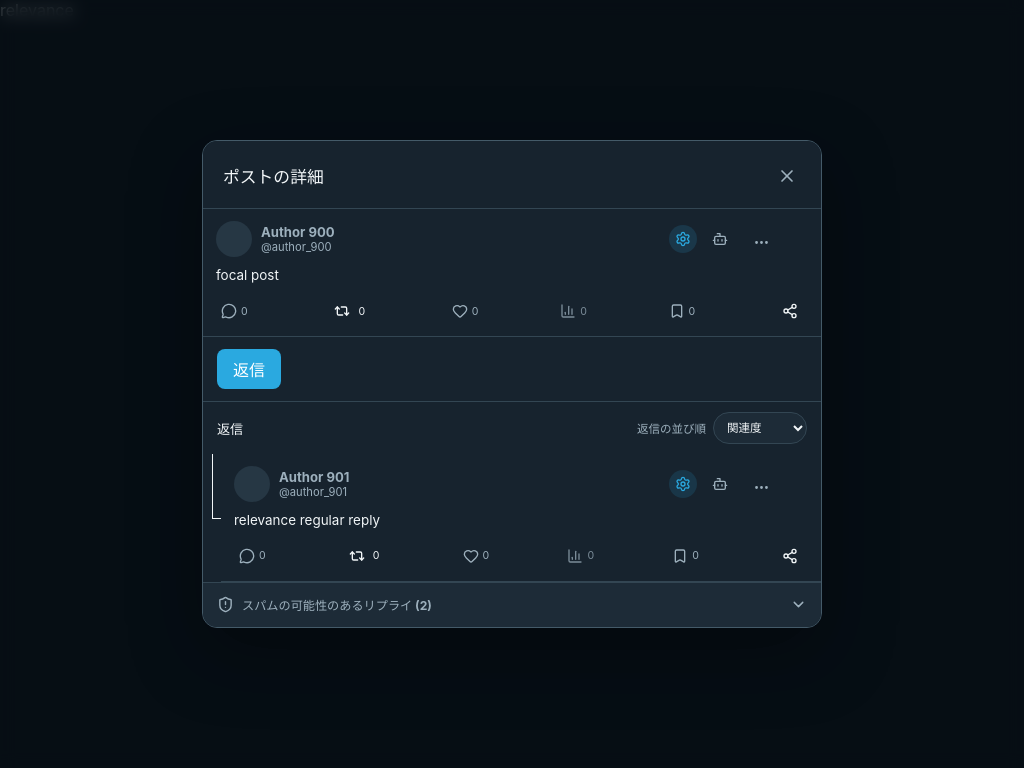
Test: uses X reply ranking modes and folds replies X classifies as possible spam
This screenshot has width=1024, height=768.
Check: the text "relevance regular reply" is shown, box [234,512,380,528]
Check: the text "low quality reply" is not shown
Select "最新" in the dropdown labelled "返信の並び順". click: point(760, 428)
box: [713,412,807,444]
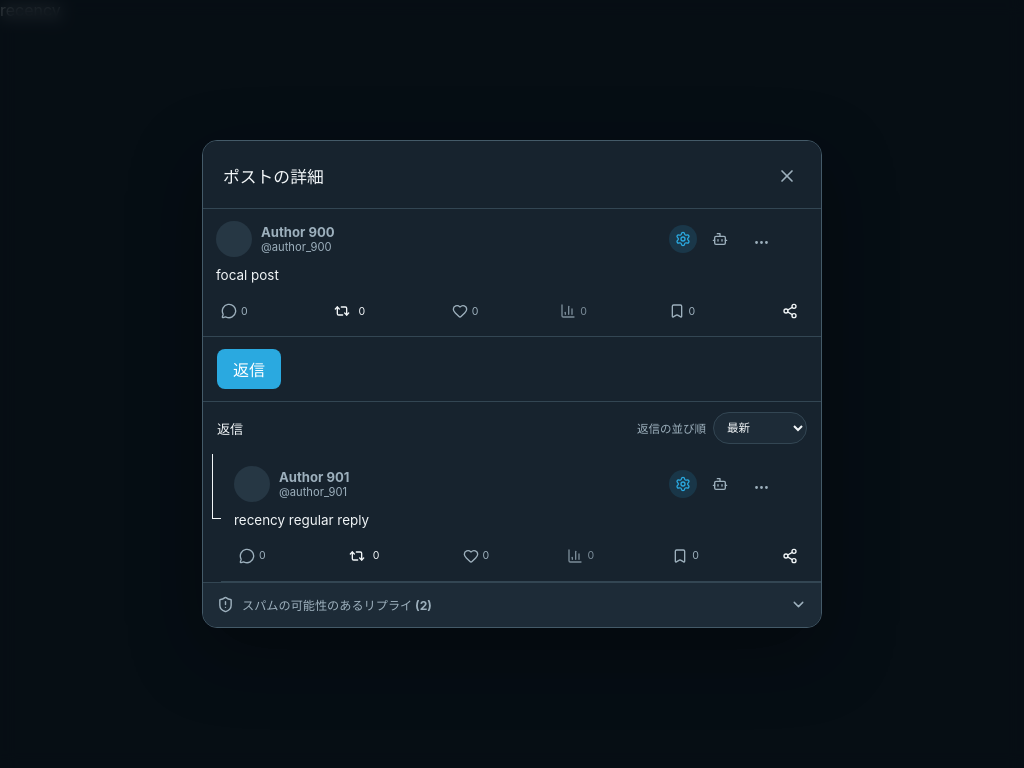
Check: the text with test id "remembered-reply-sort" reads "recency", box [0,0,61,20]
Check: the text "recency regular reply" is shown, box [234,512,369,528]
Click the button with aria-label "2件のスパムの可能性のあるリプライを表示". click: point(337, 605)
box: [203,583,821,627]
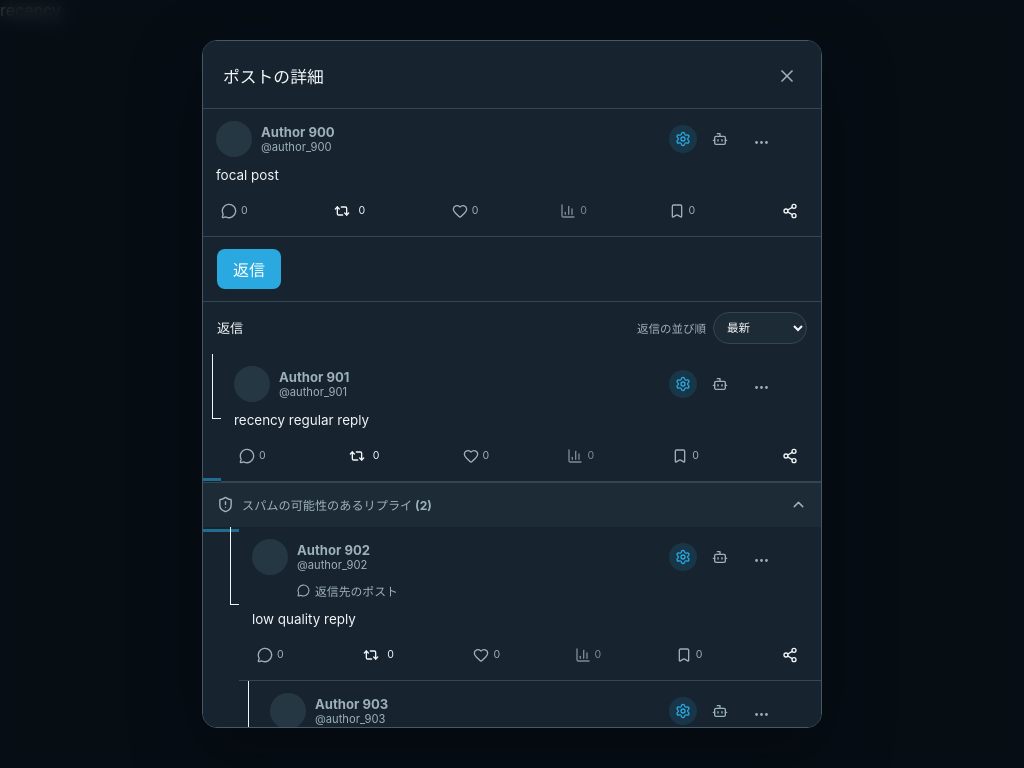
Check: the text "low quality reply" is shown, box [252,611,356,627]
Check: the button with aria-label "2件のスパムの可能性のあるリプライを折り畳む" is shown, box [203,483,821,527]
Select "いいね" in the dropdown labelled "返信の並び順". click: point(760, 328)
box: [713,312,807,344]
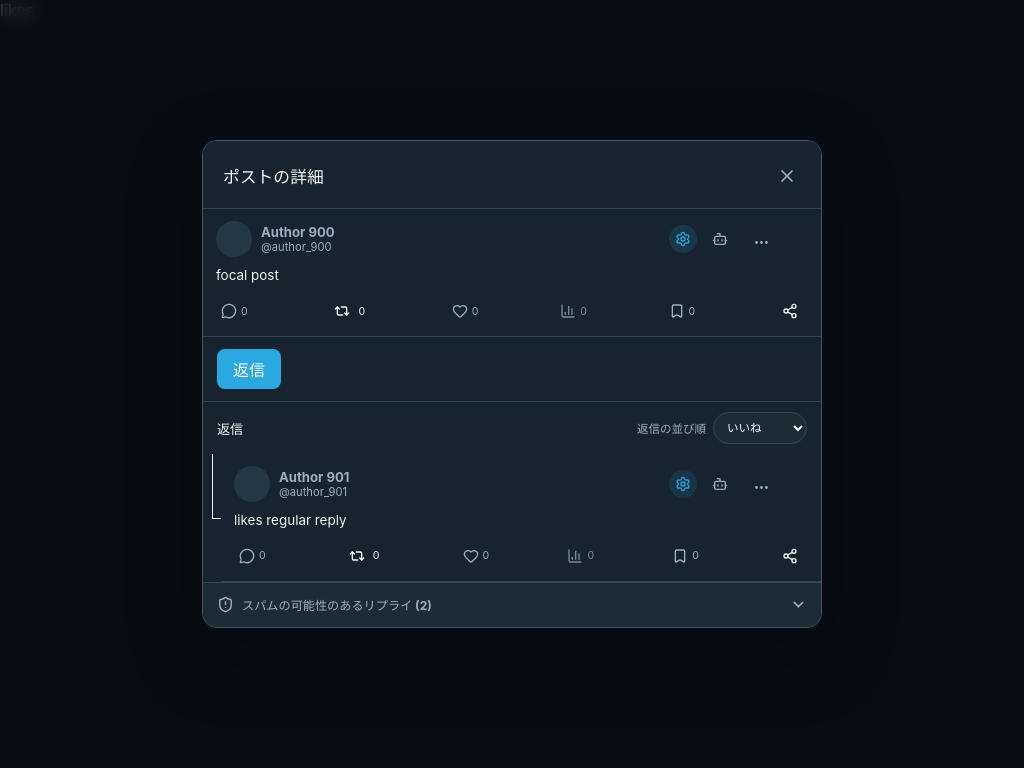
Check: the text "likes regular reply" is shown, box [234,512,347,528]
Check: the text "low quality reply" is gone
